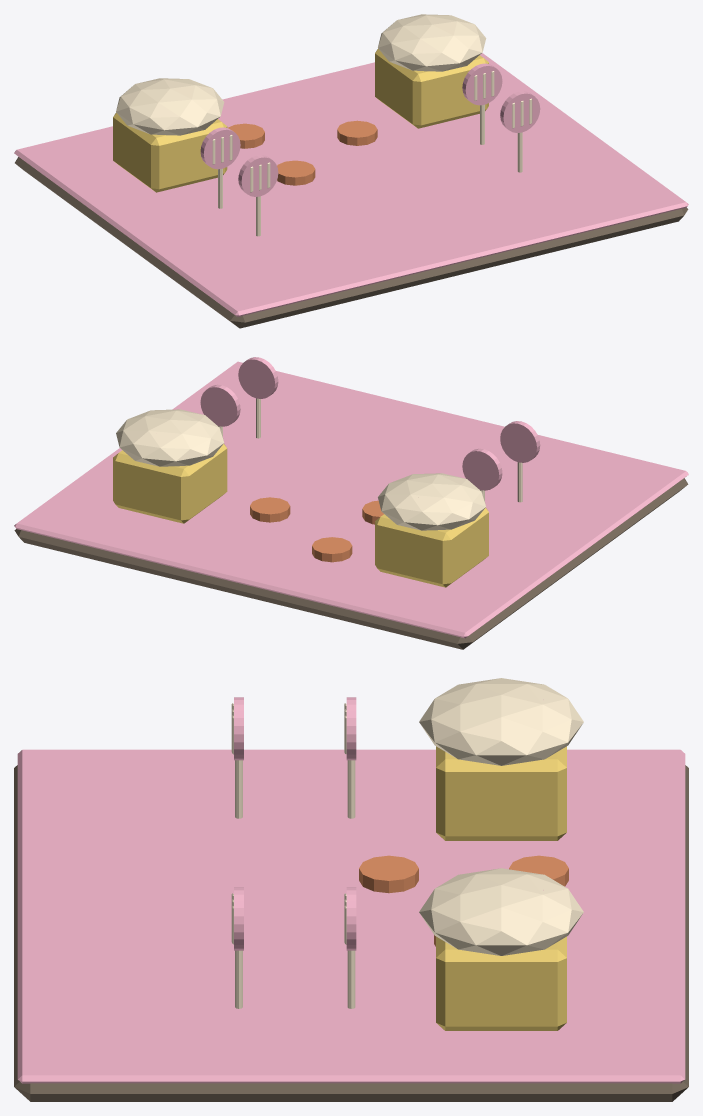
Rendered from world-candy.glb.
The picture shows the model from 3 angles, top to bottom: view 1: azimuth 30°, elevation 25°; view 2: azimuth 150°, elevation 25°; view 3: azimuth 270°, elevation 25°; orthographic projection. The views are drawn at different scales.
Parts seen in each view (by area): view 1: terrain-top, terrain-stratum, cake-house, cake-house.001, icing-roof.001, icing-roof, lollipop.001, lollipop.004, lollipop.002, lollipop.005, cookie-platform.001, cookie-platform (+1 smaller); view 2: terrain-top, terrain-stratum, cake-house.001, cake-house, icing-roof, icing-roof.001, lollipop.004, lollipop.001, lollipop.002, lollipop.005, cookie-platform.001, cookie-platform.002; view 3: terrain-top, terrain-stratum, icing-roof, icing-roof.001, cake-house, cake-house.001, cookie-platform, cookie-platform.002, lollipop.005, lollipop.002, lollipop.001, lollipop.004.
Part boxes in pixels (x1,y1,x2,y2): terrain-top: [14, 53, 688, 316]; terrain-stratum: [15, 157, 688, 328]; cake-house: [113, 112, 227, 192]; cake-house.001: [375, 48, 488, 128]; icing-roof.001: [378, 14, 486, 71]; icing-roof: [116, 78, 224, 135]; lollipop.001: [238, 155, 278, 196]; lollipop.004: [500, 91, 540, 132]; lollipop.002: [200, 127, 240, 169]; lollipop.005: [462, 63, 502, 105]; cookie-platform.001: [337, 120, 377, 145]; cookie-platform: [277, 160, 315, 185]; terrain-top: [14, 361, 688, 638]; terrain-stratum: [14, 478, 688, 649]; cake-house.001: [113, 444, 227, 523]; cake-house: [375, 507, 488, 587]; icing-roof: [378, 473, 486, 530]; icing-roof.001: [116, 409, 224, 466]; lollipop.004: [238, 357, 278, 398]; lollipop.001: [500, 421, 540, 462]; lollipop.002: [462, 448, 502, 490]; lollipop.005: [200, 384, 240, 426]; cookie-platform.001: [250, 497, 290, 522]; cookie-platform.002: [312, 537, 352, 562]; terrain-top: [17, 749, 685, 1083]; terrain-stratum: [14, 765, 688, 1101]; icing-roof: [419, 678, 583, 765]; icing-roof.001: [419, 868, 583, 955]; cake-house: [436, 746, 566, 840]; cake-house.001: [436, 936, 566, 1030]; cookie-platform: [359, 855, 418, 893]; cookie-platform.002: [509, 855, 568, 886]; lollipop.005: [346, 887, 356, 950]; lollipop.002: [346, 697, 356, 760]; lollipop.001: [234, 697, 243, 760]; lollipop.004: [234, 887, 243, 950].
Bounding box in the file's own units: 21 × 4.49 × 18.
